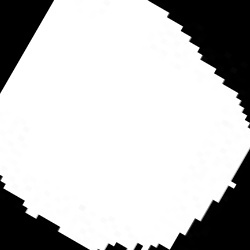spot: (0, 2, 249, 249)
